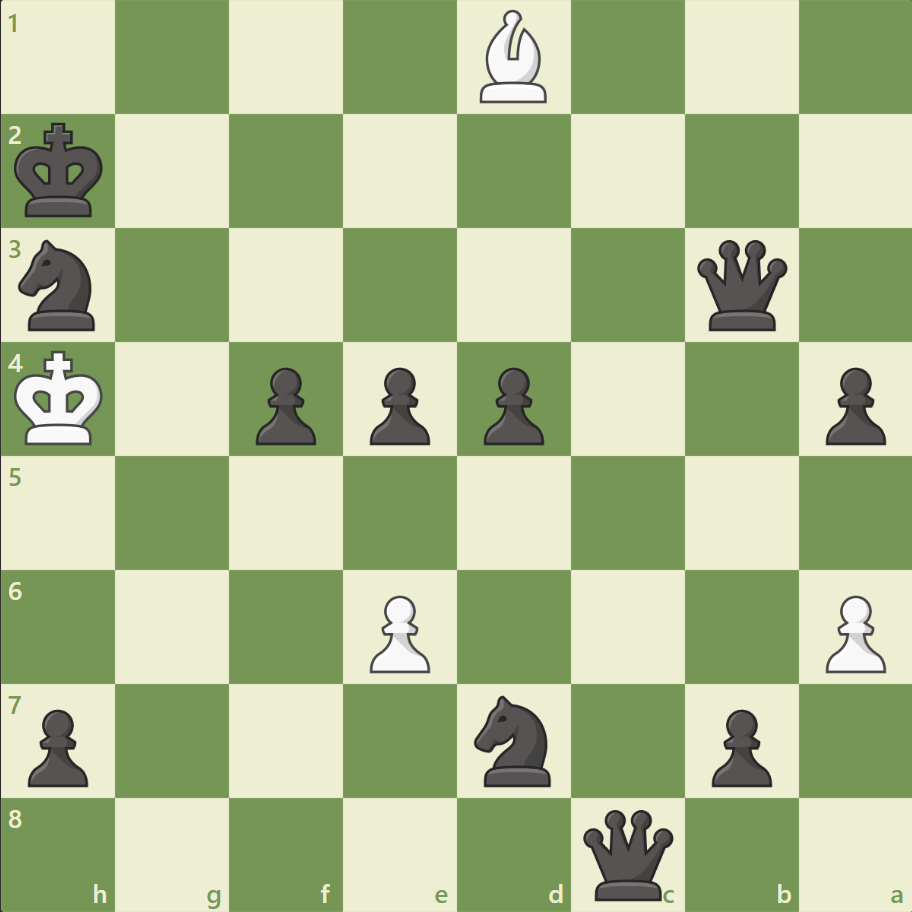B: (471, 6, 555, 109)
K: (11, 344, 111, 452)
P: (815, 586, 889, 677), (361, 586, 435, 677)
k: (11, 117, 111, 225)
n: (465, 688, 562, 791), (11, 234, 108, 337)
p: (701, 700, 776, 791), (20, 700, 95, 791), (474, 359, 549, 450), (247, 359, 322, 450), (815, 359, 889, 450), (361, 359, 435, 450)
q: (578, 804, 677, 903), (691, 236, 790, 335)
